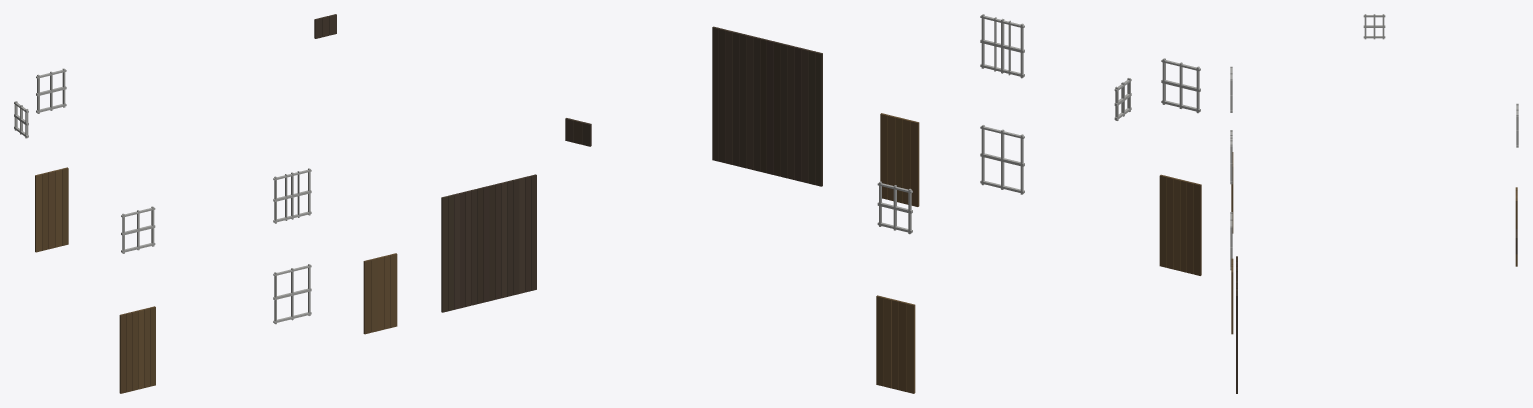
Rendered from SM_Bld_175_Wood.glb.
3 renders of one model, left to right at view 1: azimuth 30°, elevation 25°; view 2: azimuth 150°, elevation 25°; view 3: azimuth 270°, elevation 25°, orthographic. The views are drawn at different scales.
Visible parts, largest first — view 1: SM_Bld_175_Wood; view 2: SM_Bld_175_Wood; view 3: SM_Bld_175_Wood.
Part boxes in pixels (box(x1,y1,x2,y2)): SM_Bld_175_Wood: box(14, 14, 536, 393); SM_Bld_175_Wood: box(565, 14, 1201, 393); SM_Bld_175_Wood: box(1230, 14, 1518, 393).
Size of the model in its own units: 11.94 by 6.05 by 7.98.
